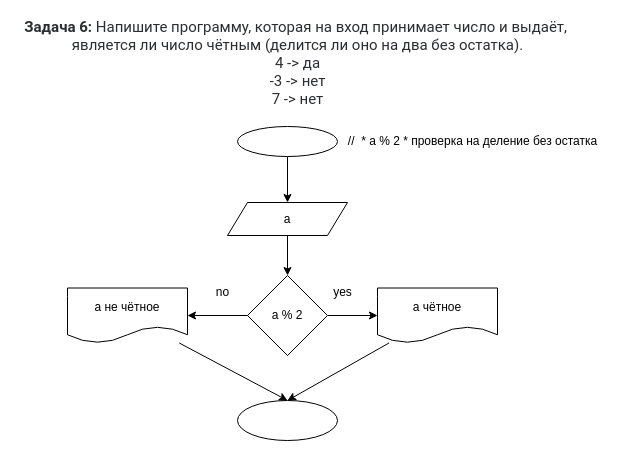
This 619x458 diagram has some shape labels left out. Here are the shapes that lost their labels. From the top down, the box of each, then its label:
(236, 126, 338, 156): start
(236, 400, 338, 440): stop
